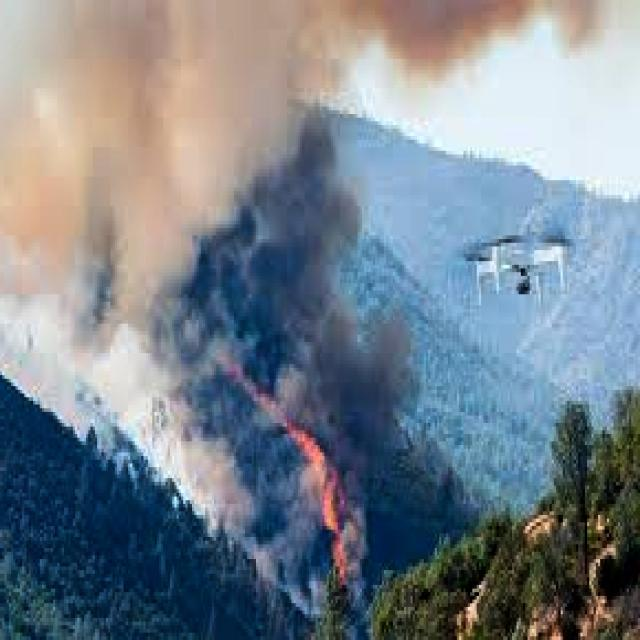drone: (466, 206, 582, 314)
